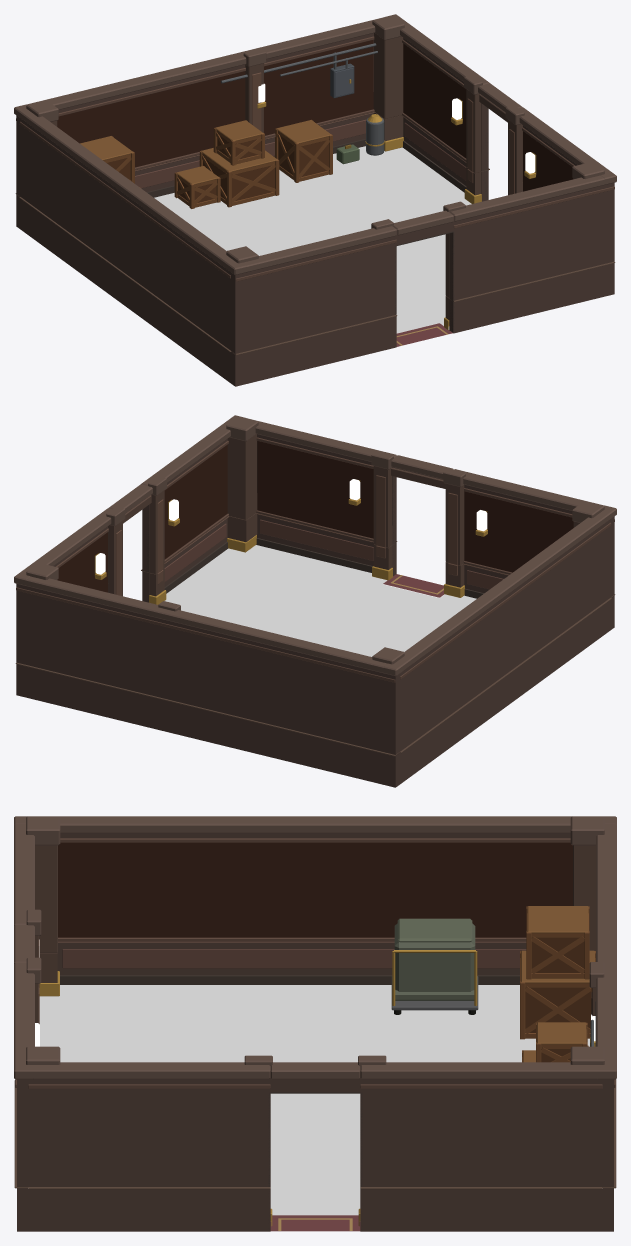
The model's file is backCorridor.glb.
3 renders of one model, top to bottom at view 1: azimuth 30°, elevation 25°; view 2: azimuth 150°, elevation 25°; view 3: azimuth 270°, elevation 25°, orthographic. The views are drawn at different scales.
Parts seen in each view (by area): view 1: static, W_north_0_up, floor, W_west_0_up, W_south_0_up, W_south_1_up, W_east_0_up, W_east_1_up; view 2: W_north_0_up, static, W_west_0_up, floor, W_south_1_up, W_south_0_up, W_east_1_up, W_east_0_up; view 3: W_west_0_up, static, floor, W_east_0_up, W_east_1_up, W_north_0_up, W_south_0_up, W_south_1_up.
Part boxes in pixels (left/top/right/bottom): static: left=15, top=92, right=615, bottom=386; W_north_0_up: left=14, top=15, right=404, bottom=196; floor: left=154, top=146, right=471, bottom=346; W_west_0_up: left=14, top=104, right=246, bottom=350; W_south_0_up: left=226, top=210, right=453, bottom=353; W_south_1_up: left=443, top=162, right=616, bottom=300; W_east_0_up: left=385, top=14, right=522, bottom=173; W_east_1_up: left=505, top=105, right=616, bottom=195; W_north_0_up: left=14, top=563, right=404, bottom=754; static: left=15, top=493, right=615, bottom=787; W_west_0_up: left=384, top=505, right=616, bottom=751; floor: left=165, top=545, right=476, bottom=656; W_south_1_up: left=226, top=416, right=396, bottom=547; W_south_0_up: left=391, top=455, right=616, bottom=597; W_east_1_up: left=141, top=415, right=245, bottom=574; W_east_0_up: left=14, top=484, right=152, bottom=596; W_west_0_up: left=14, top=816, right=616, bottom=941; static: left=14, top=906, right=616, bottom=1231; floor: left=39, top=985, right=589, bottom=1231; W_east_0_up: left=270, top=1055, right=616, bottom=1186; W_east_1_up: left=14, top=1055, right=272, bottom=1186; W_north_0_up: left=570, top=816, right=616, bottom=1186; W_south_0_up: left=14, top=816, right=60, bottom=987; W_south_1_up: left=14, top=957, right=60, bottom=1186.
Bounding box in the file's own units: 8.08 × 2.48 × 8.08.
